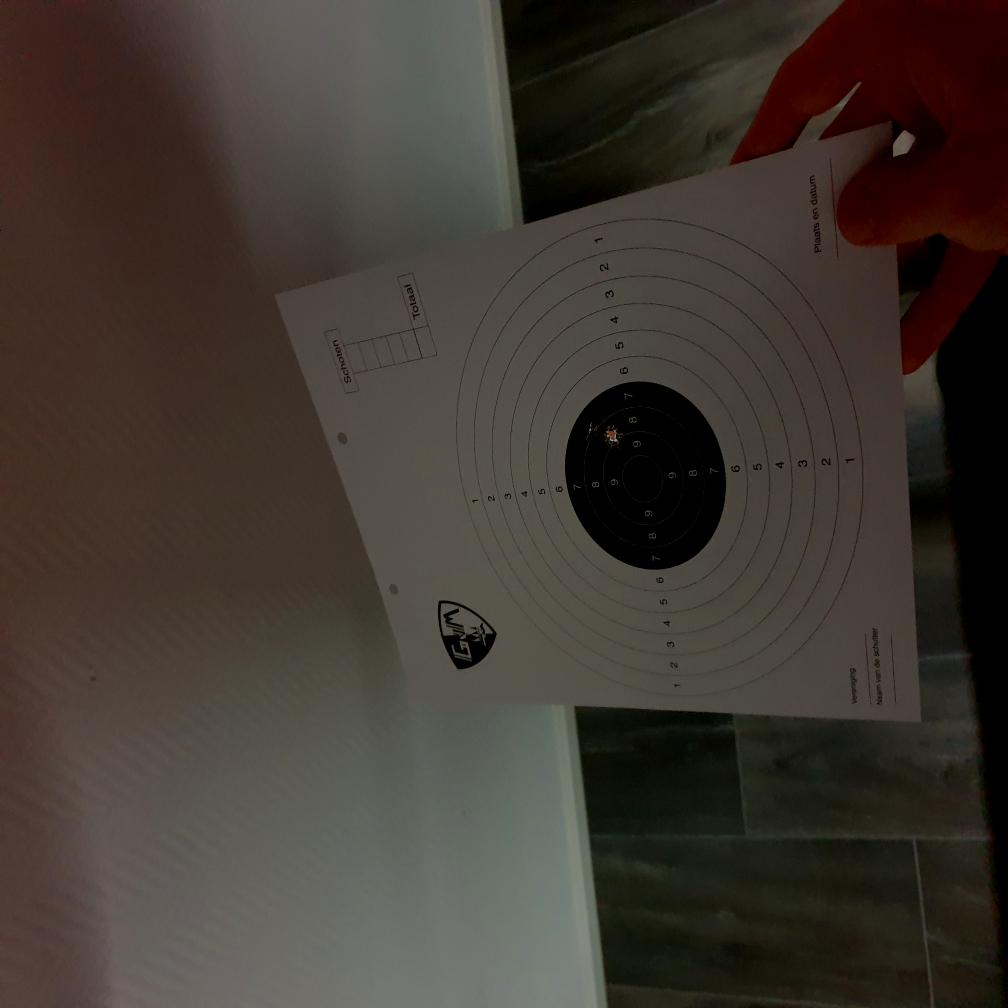8: (584, 421, 600, 444)
9: (604, 425, 623, 448)
Target: (437, 181, 846, 661)
black_contour: (565, 381, 726, 570)
